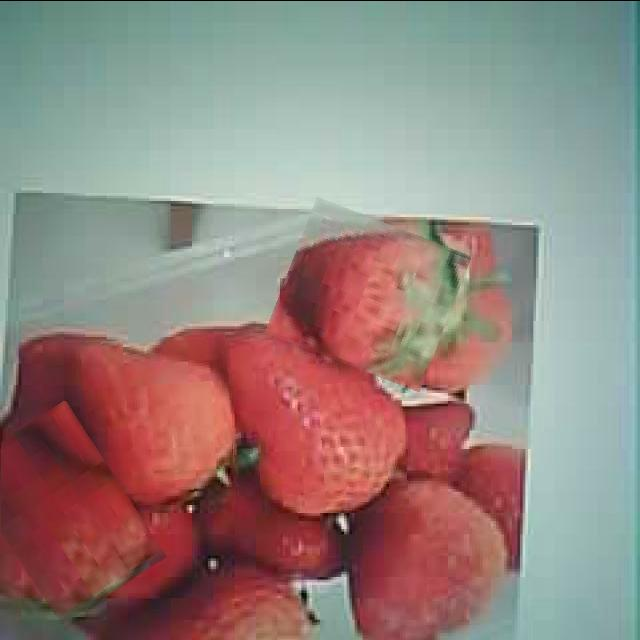strawberry: (228, 322, 406, 512), (275, 208, 461, 378), (0, 410, 147, 616), (78, 334, 232, 504)
